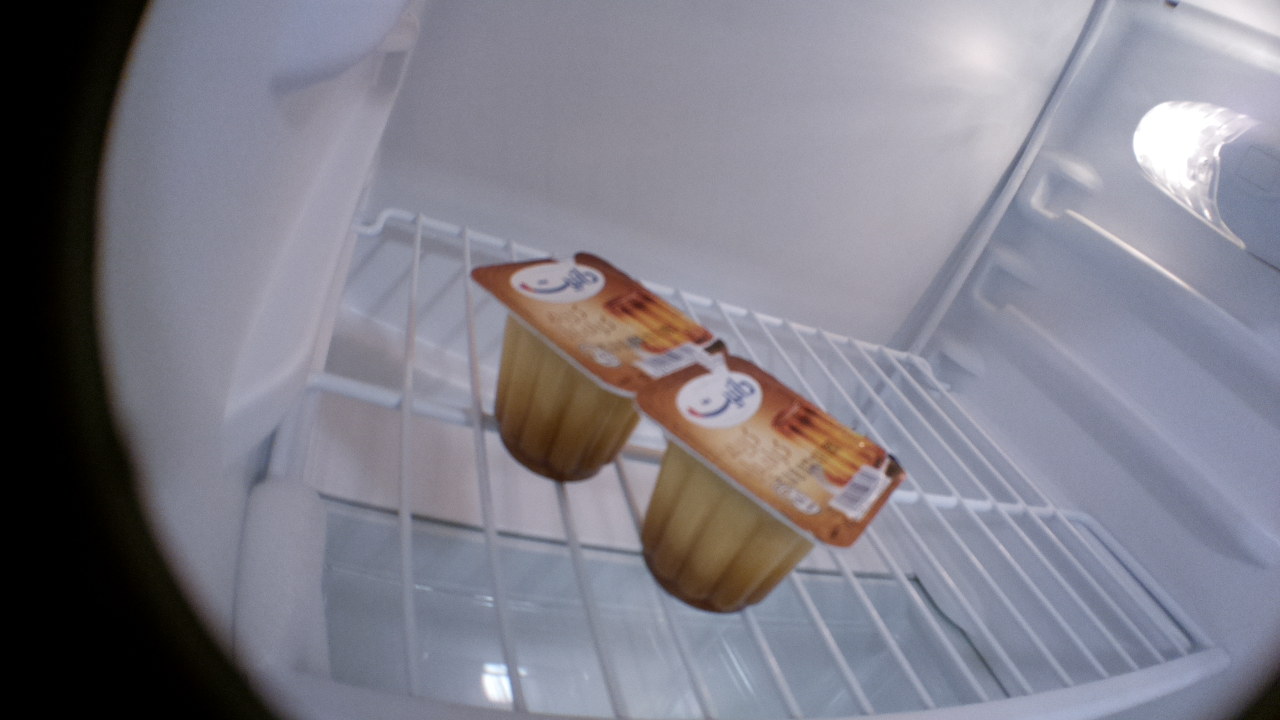caramel: (637, 353, 908, 615), (465, 249, 711, 485)
